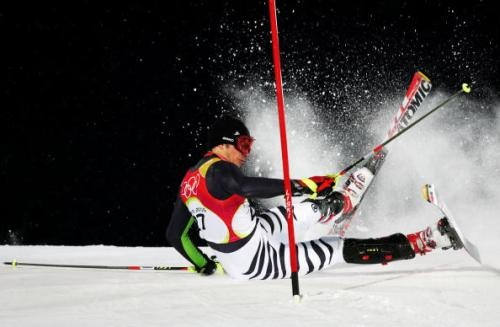falling: (163, 103, 481, 288)
